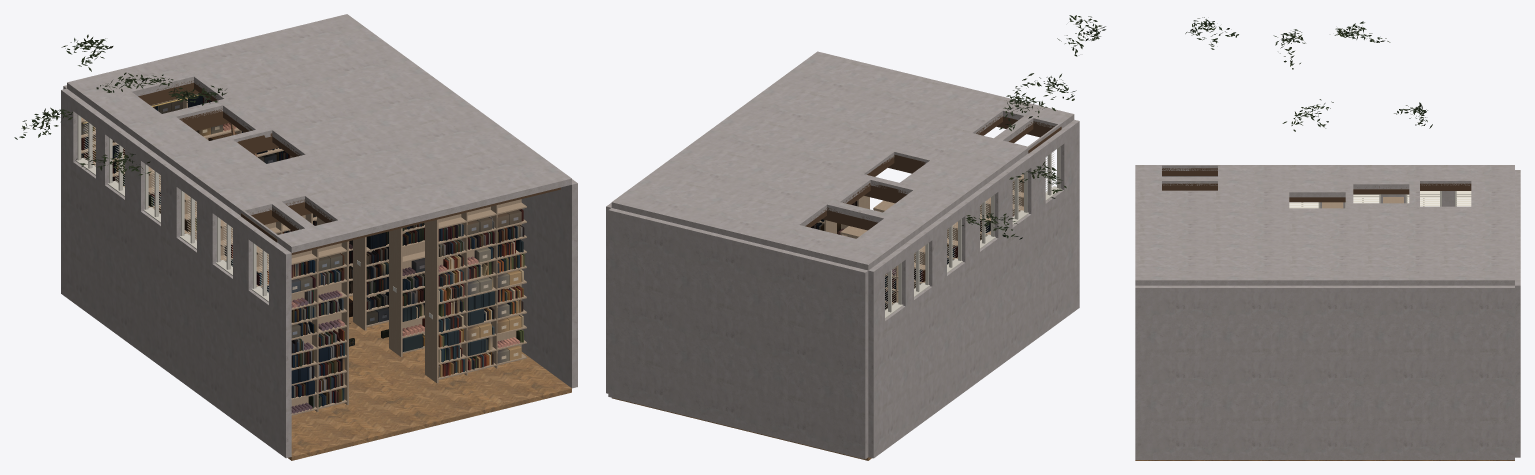
Rendered from archive.glb.
3 views of the same model, side by side, from view 1: azimuth 30°, elevation 25°; view 2: azimuth 150°, elevation 25°; view 3: azimuth 270°, elevation 25° (orthographic). The views are drawn at different scales.
Parts seen in each view (by area): view 1: Archive_shell, Archive_books, Archive_decor; view 2: Archive_shell, Archive_decor, Archive_books; view 3: Archive_shell, Archive_decor.
Part boxes in pixels (x1,y1,x2,y2): Archive_shell: (61, 14, 577, 460); Archive_books: (81, 94, 524, 413); Archive_decor: (14, 34, 388, 346); Archive_shell: (606, 51, 1079, 460); Archive_decor: (962, 15, 1105, 239); Archive_books: (811, 201, 1014, 309); Archive_shell: (1135, 165, 1520, 460); Archive_decor: (1185, 17, 1432, 131).
Bounding box in the file's own units: 10.2 × 8.82 × 10.15.
Materials: 46 (17 with a texture image).
